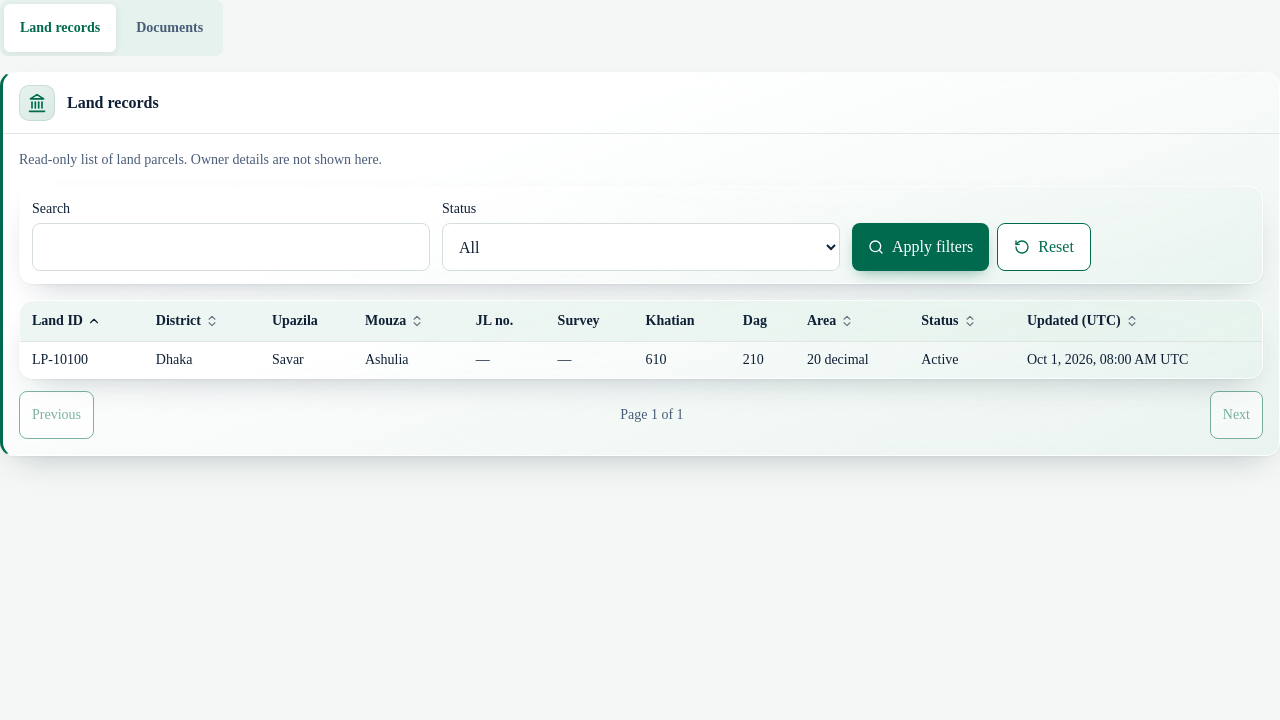
admin records + documents › documents tab maps type/status, never shows a path, handles unassigned
This screenshot has width=1280, height=720.
Expected: the element with test id "records-table" is shown, [19,300,1263,439]
Step 1. Click the tab "Documents" → (170, 28), box [120,4,219,52]
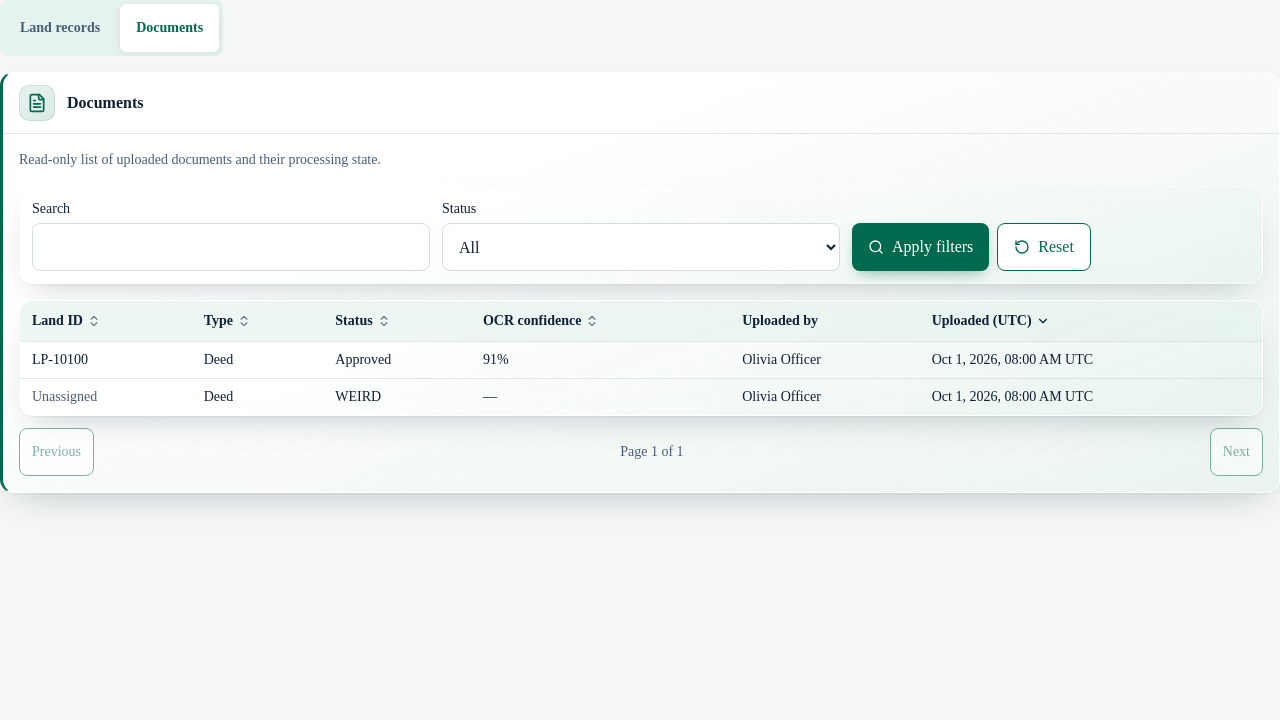
Result: the text "Deed" is shown 2 times at [192,342,323,378]; [192,378,323,415]
Result: the text "91%" is shown at [471,342,730,378]
Result: the text "Unassigned" is shown at [32,389,97,404]
